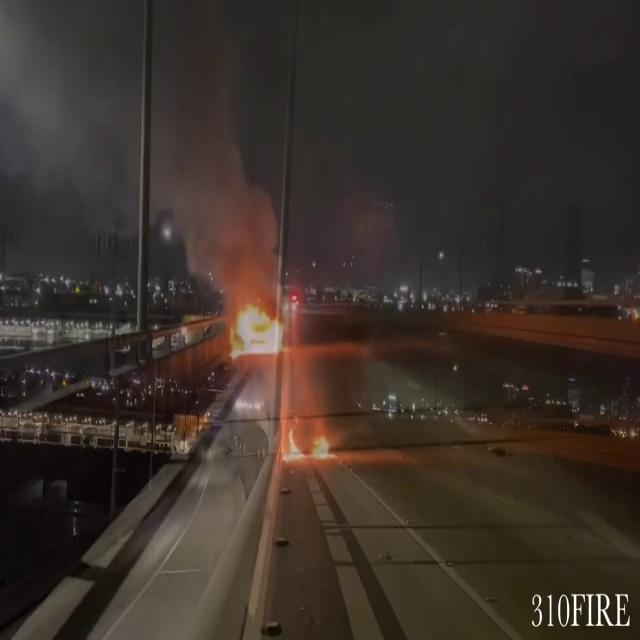Fire: (224, 297, 294, 363), (283, 421, 335, 466)
Smoke: (0, 0, 286, 297)
